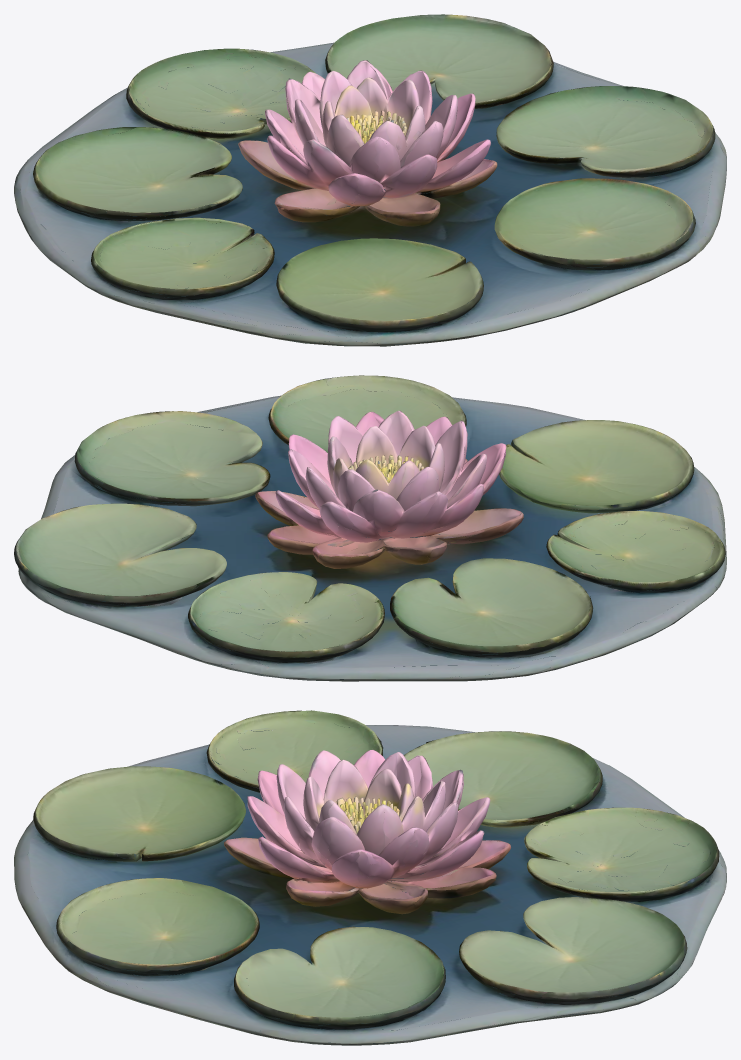
The model's file is waterlily.glb.
3 views of the same model, one above another, from view 1: azimuth 30°, elevation 25°; view 2: azimuth 150°, elevation 25°; view 3: azimuth 270°, elevation 25° (orthographic). The views are drawn at different scales.
Parts seen in each view (by area): view 1: Waterlily; view 2: Waterlily; view 3: Waterlily.
Part boxes in pixels (box(x1,y1,x2,y2)): Waterlily: box(14, 14, 726, 346); Waterlily: box(14, 375, 726, 681); Waterlily: box(14, 710, 726, 1045).
Bounding box in the file's own units: 1.15 × 0.1855 × 1.09.
Materials: 1 (1 with a texture image).
